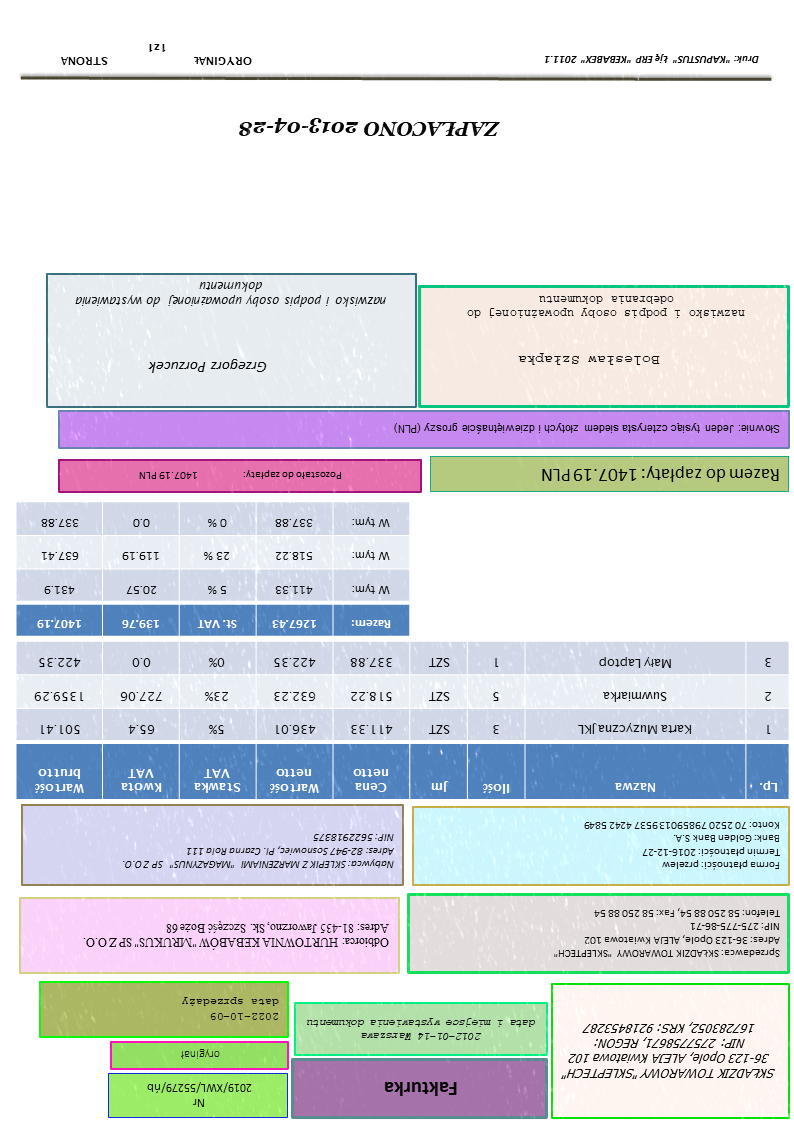Table: (16, 639, 791, 802), (14, 500, 411, 640)
TextBox: (558, 1021, 778, 1083), (551, 906, 783, 963), (120, 829, 397, 873), (582, 818, 784, 875), (81, 920, 393, 954), (73, 277, 389, 310), (464, 294, 749, 322), (236, 113, 504, 142), (304, 1015, 538, 1044), (392, 421, 783, 438), (56, 39, 256, 71), (540, 464, 784, 487), (542, 51, 762, 69), (136, 467, 346, 485), (147, 1079, 255, 1113), (179, 993, 283, 1024), (518, 349, 664, 371), (146, 358, 270, 377), (382, 1078, 462, 1100), (178, 1047, 223, 1062)
